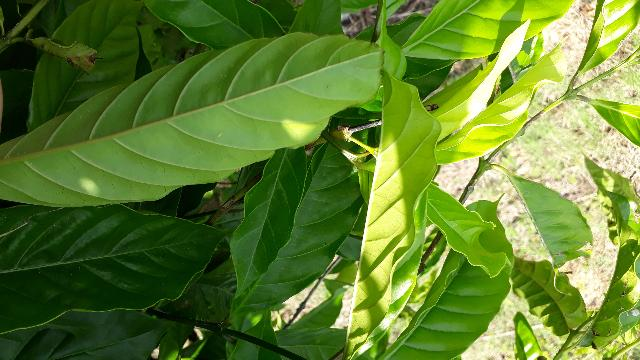healthy: (257, 153, 640, 328)
